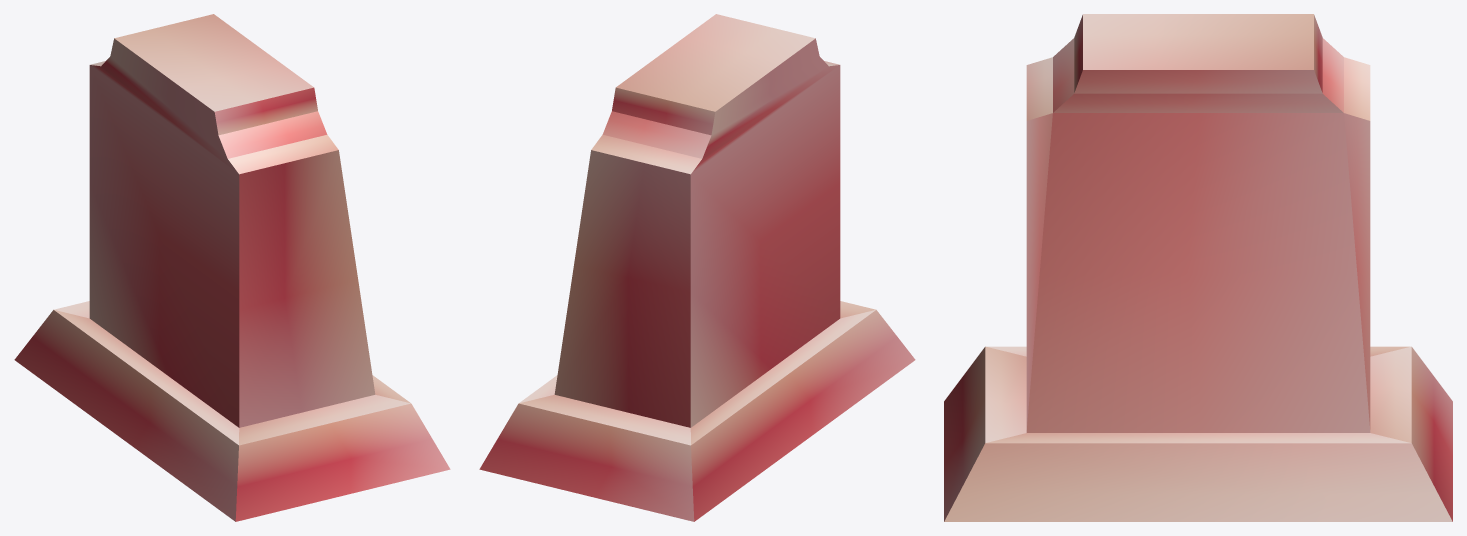
Rendered from tombStone03.fbx.
3 views of the same model, side by side, from view 1: azimuth 30°, elevation 25°; view 2: azimuth 150°, elevation 25°; view 3: azimuth 270°, elevation 25° (orthographic). The views are drawn at different scales.
Parts seen in each view (by area): view 1: tombStone03; view 2: tombStone03; view 3: tombStone03.
Boxes of the visible parts, left/top/right/bottom form: tombStone03: left=14, top=14, right=450, bottom=521; tombStone03: left=479, top=14, right=915, bottom=521; tombStone03: left=944, top=14, right=1452, bottom=521.
Size of the model in its own units: 78.9 by 125 by 141.
